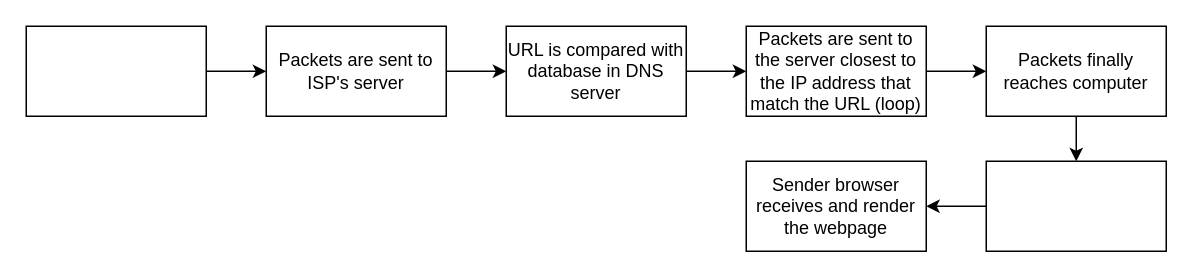
This 1193x278 diagram has some shape labels left out. Here are the shapes that lost their labels. From the top down, the centre of each, then its label:
[115,70]: Enter URL "www.Google.com"
[1075,205]: Computer returns HTML data to sender using same method
